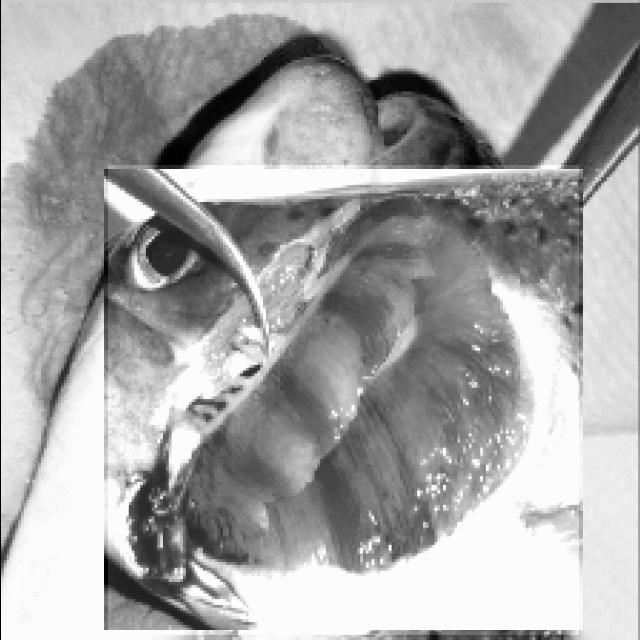Gill Disease: (107, 165, 578, 635)
